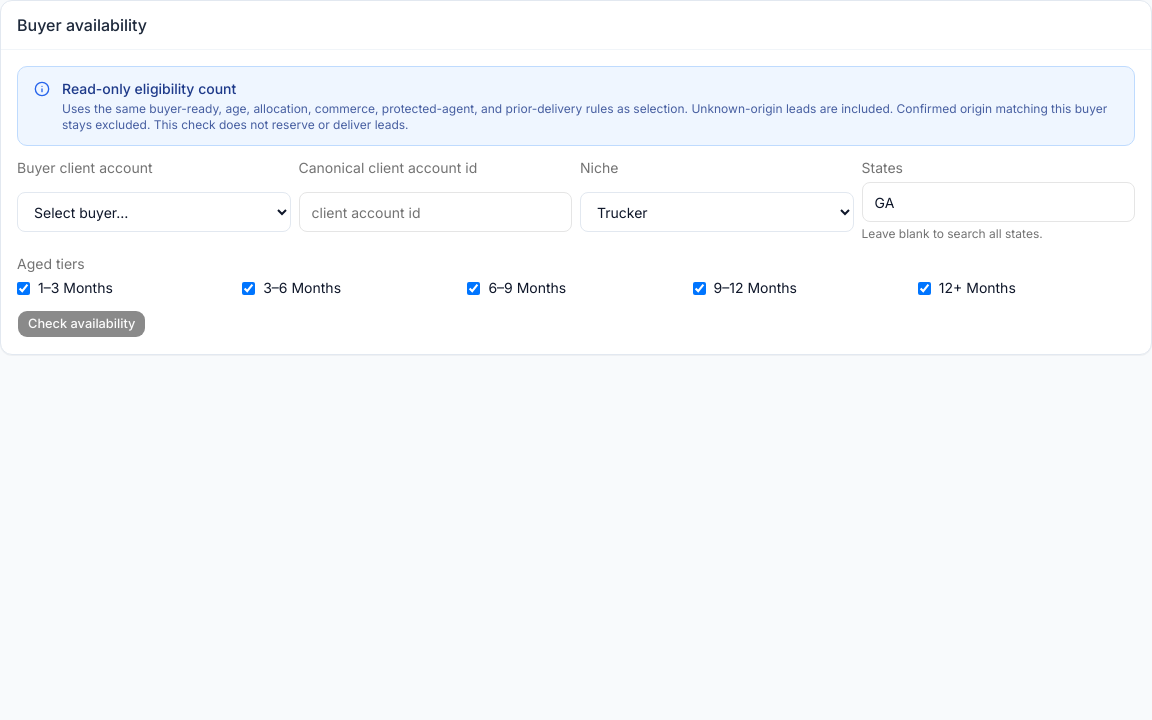
it: BuyerAvailabilityPanel › keeps a valid state selection on the request
In the field with test id "buyer-availability-client-id": (435,212) [298,192,572,232], type "client_jr_laird"
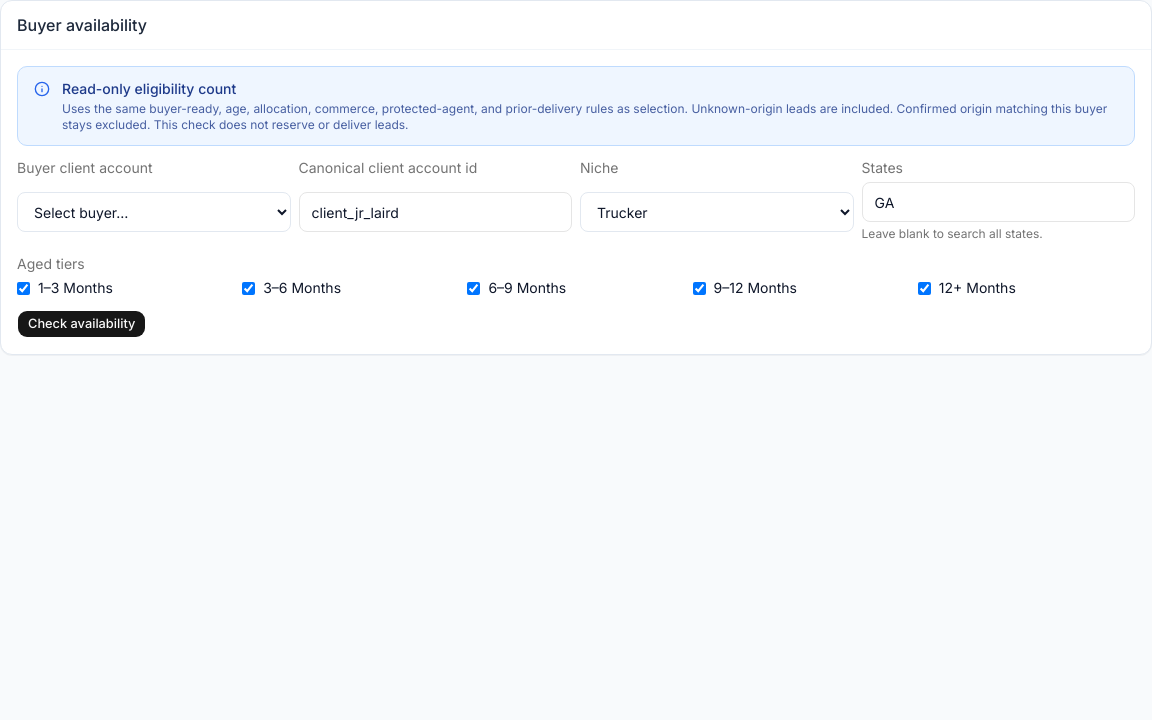
Replace the text in the field with test id "buyer-availability-states" with "ga, tx": (998,202) [862,182,1135,222]
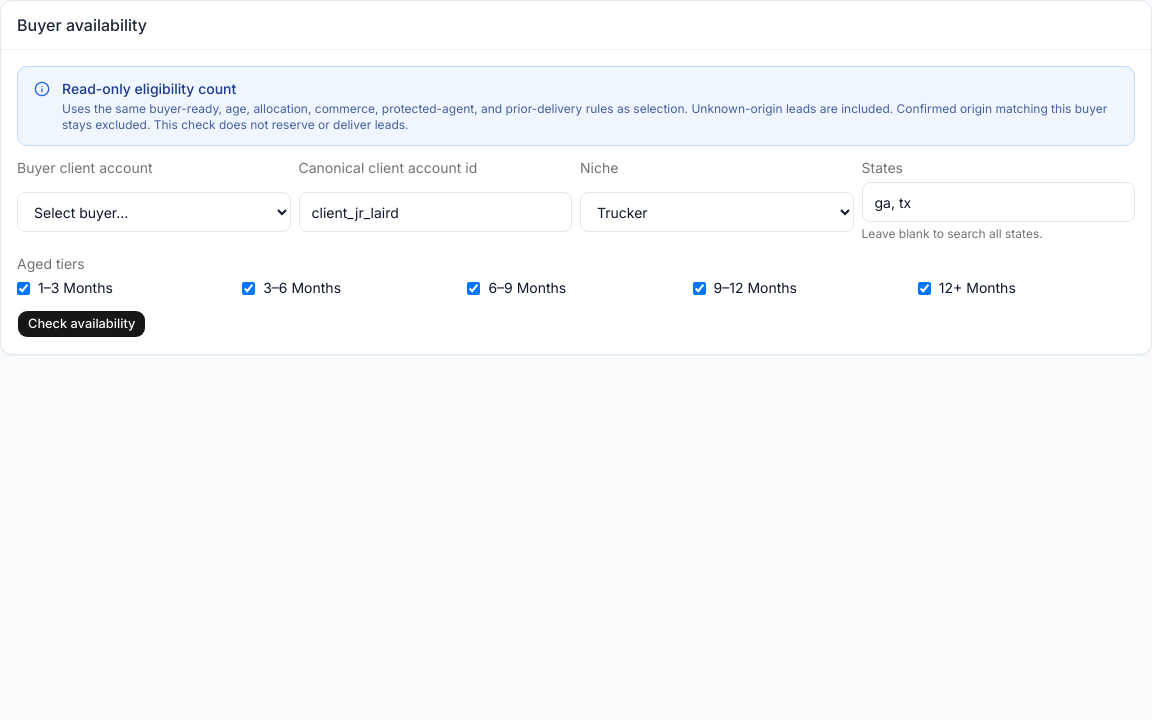
Click the button with test id "buyer-availability-submit": (82,324) [17,310,146,338]
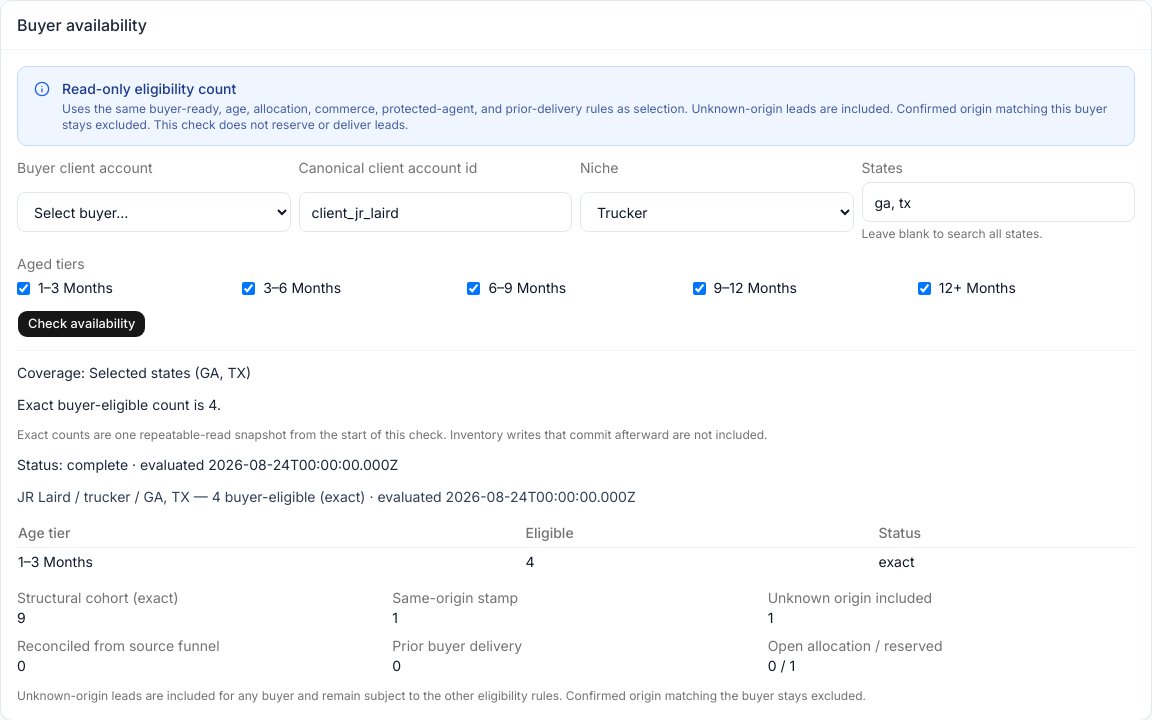
expect the text with test id "buyer-availability-total" shows "GA, TX": met, box [144,488,190,505]
expect the text with test id "buyer-availability-total" shows "(exact)": met, box [316,488,365,505]
expect the text with test id "buyer-availability-state-scope" reads "Coverage: Selected states (GA, TX)": met, box [17,364,251,381]
